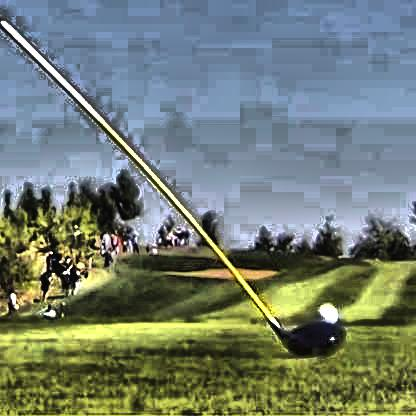golfball: (314, 301, 335, 325)
